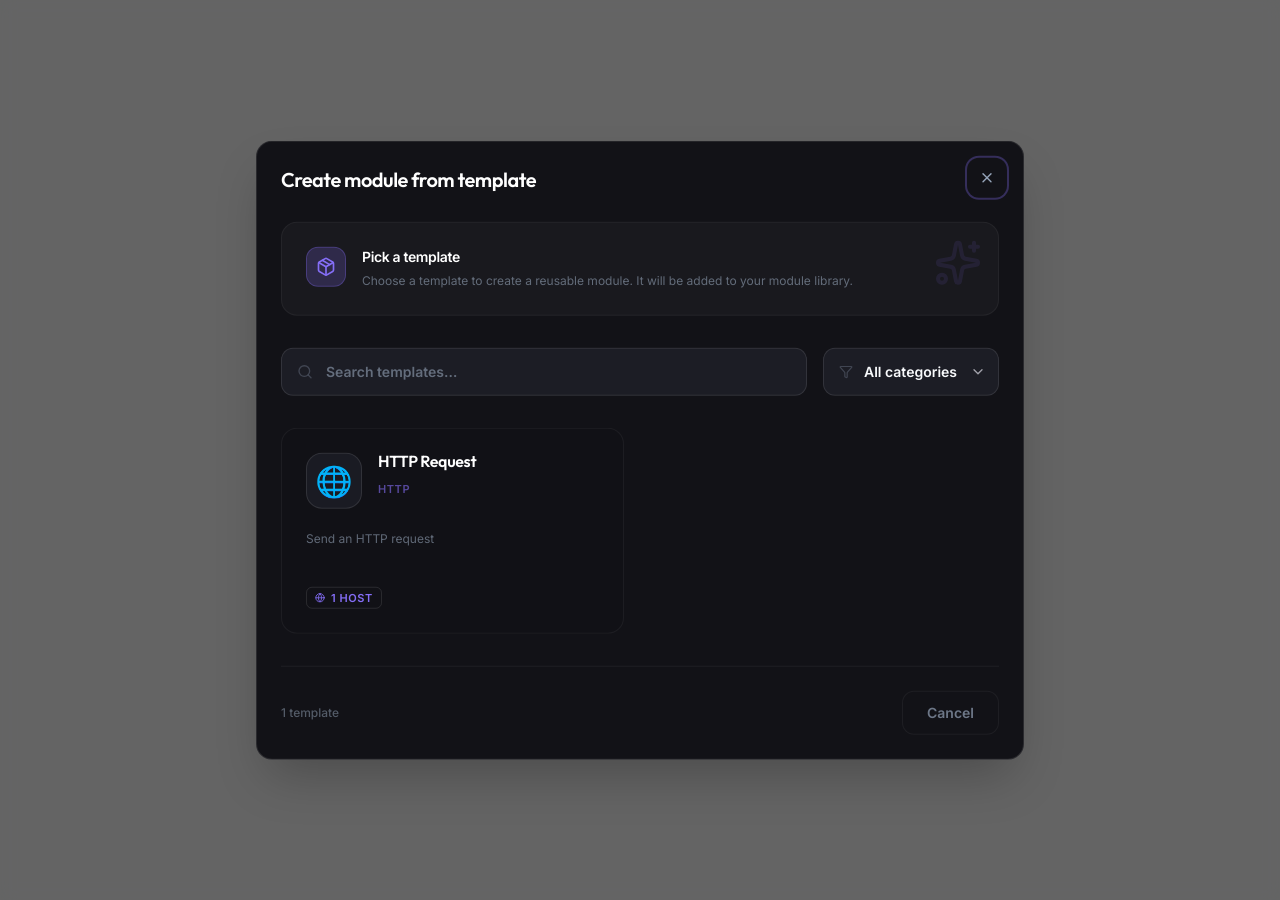
CreateModuleDialog › navigates to configuration step when a template is selected
Click the heading "HTTP Request" at {"x": 427, "y": 460}, box [378,450,476,470]
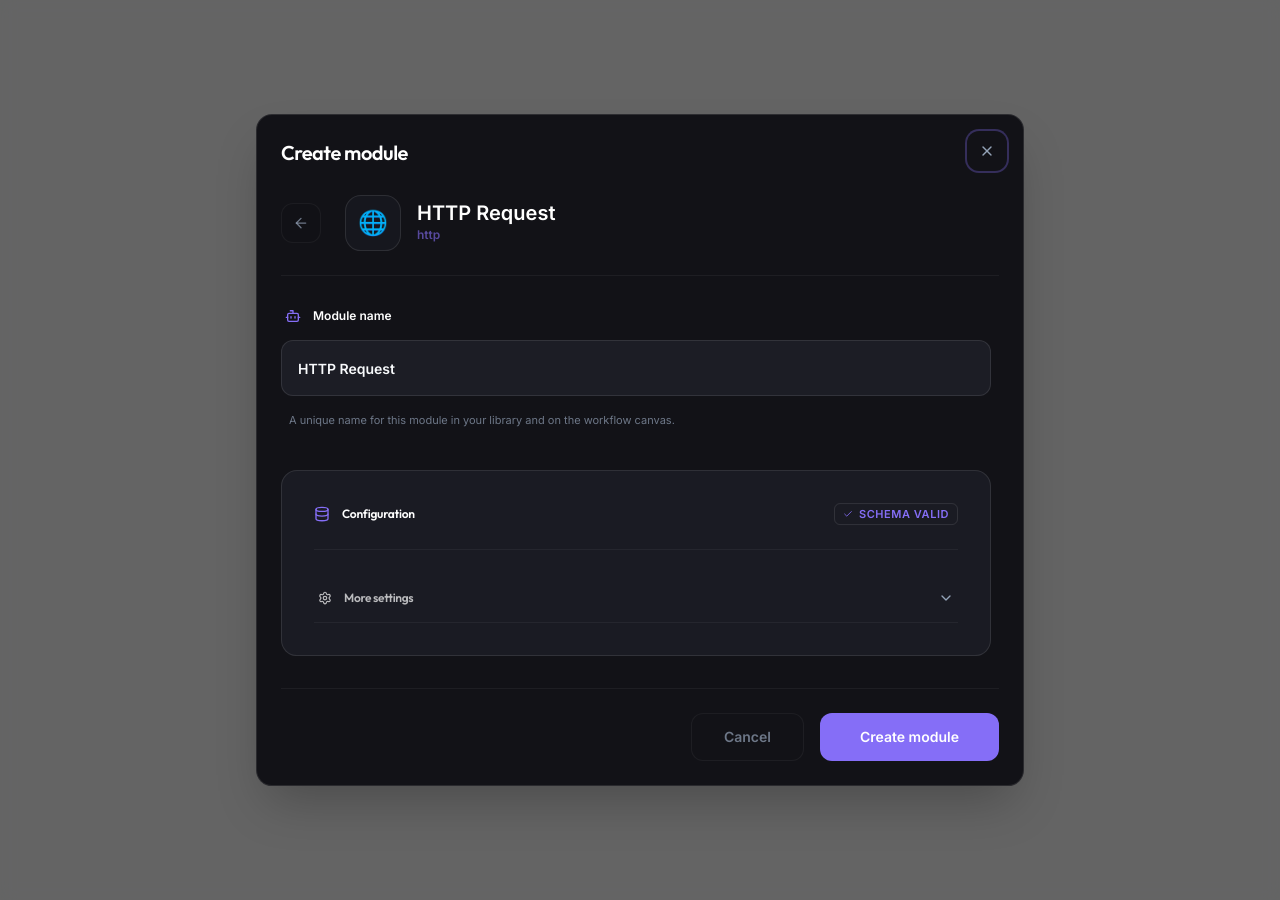
Expected: the heading "Create module" is shown, [281,139,408,167]
Expected: the field showing "HTTP Request" is shown, [281,340,991,396]
